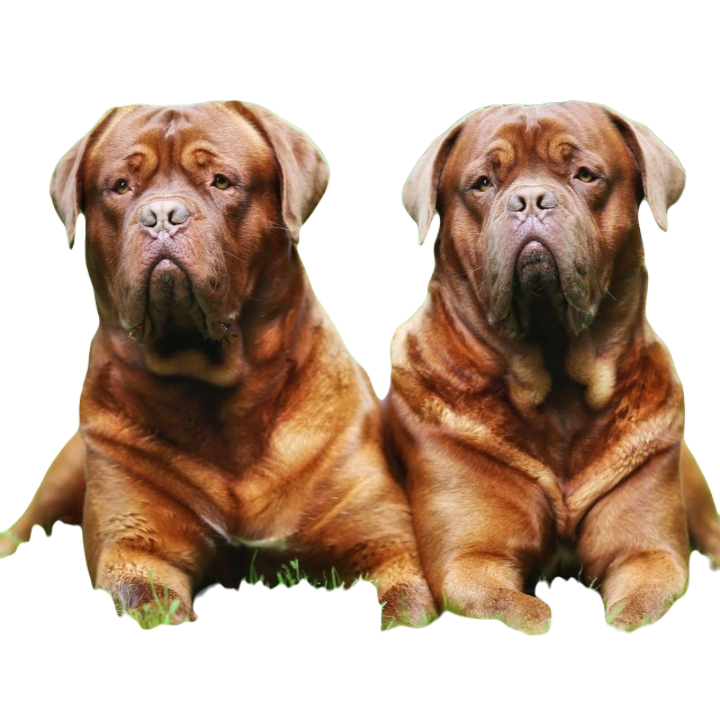Dog: (14, 99, 379, 623), (382, 101, 719, 625)
